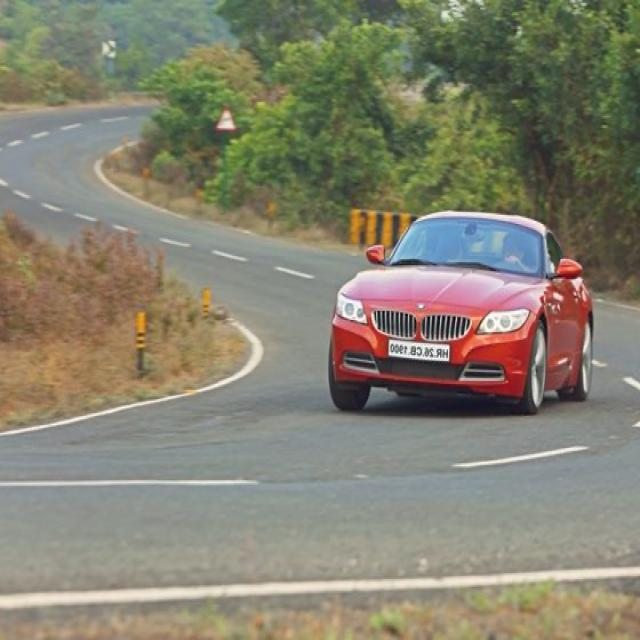number-plate: (378, 338, 457, 364)
